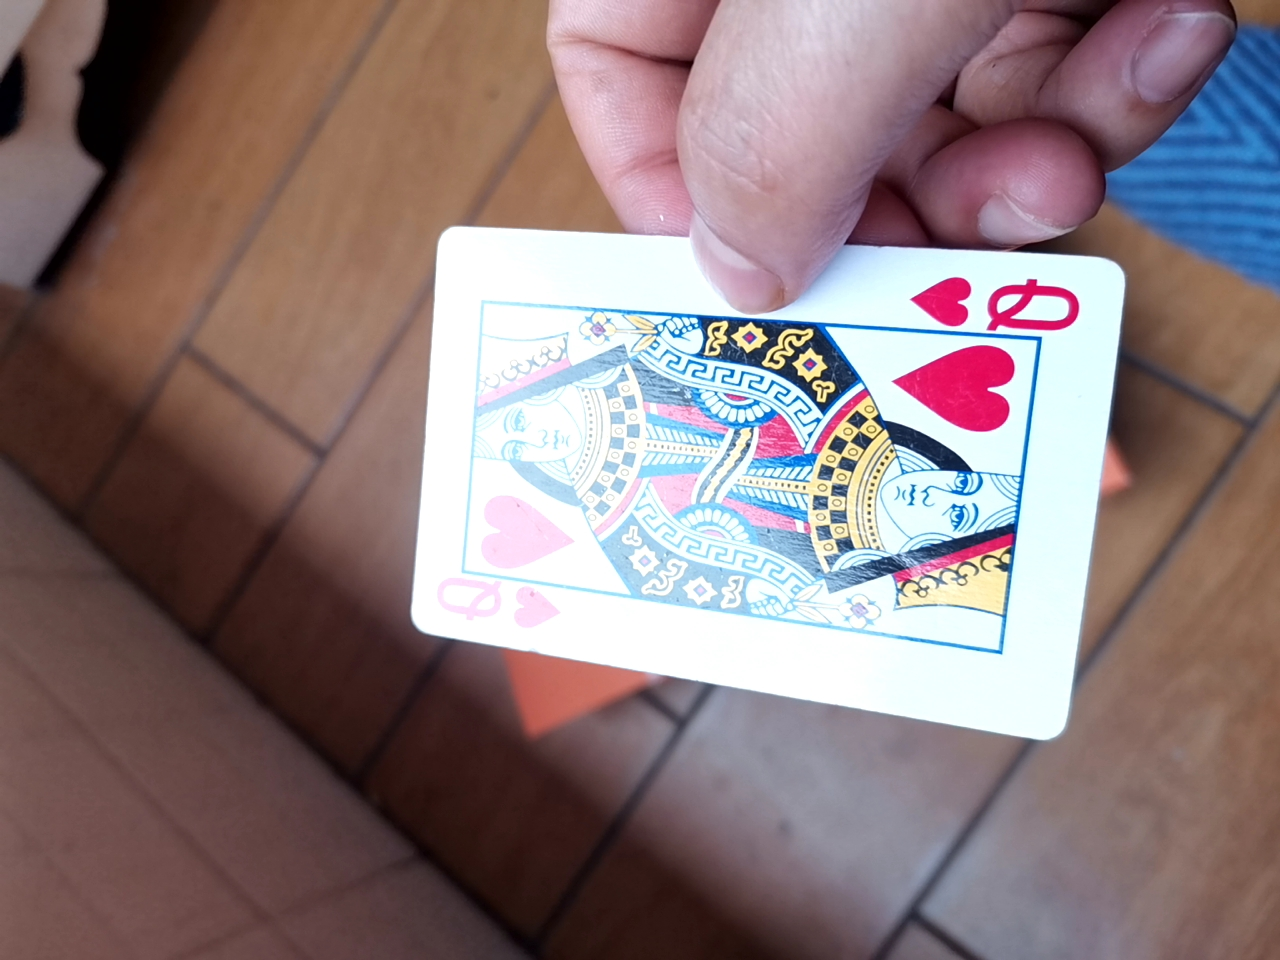hx q: (375, 236, 1123, 750)
